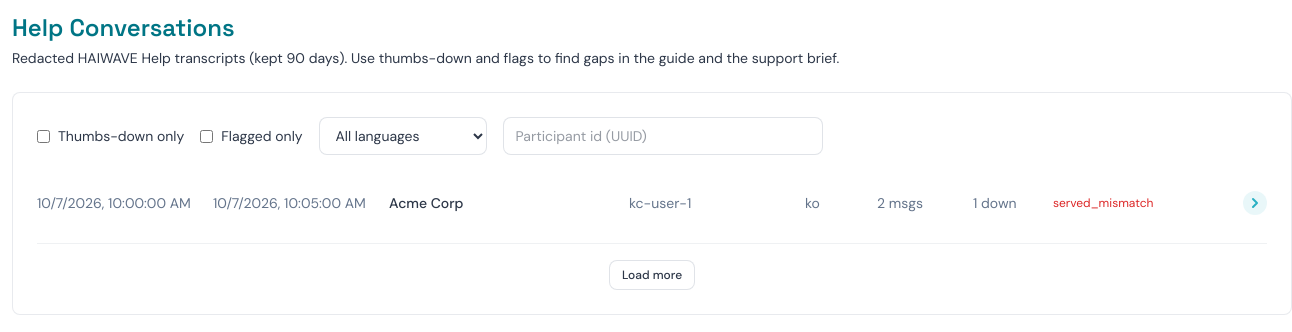
Test: AdminHelpPage › loads more with the cursor and appends
Check: the text "Acme Corp" is shown, box [389,194,464,212]
Click the button "Load more". click: [652, 275]
box: [609,260,695,290]
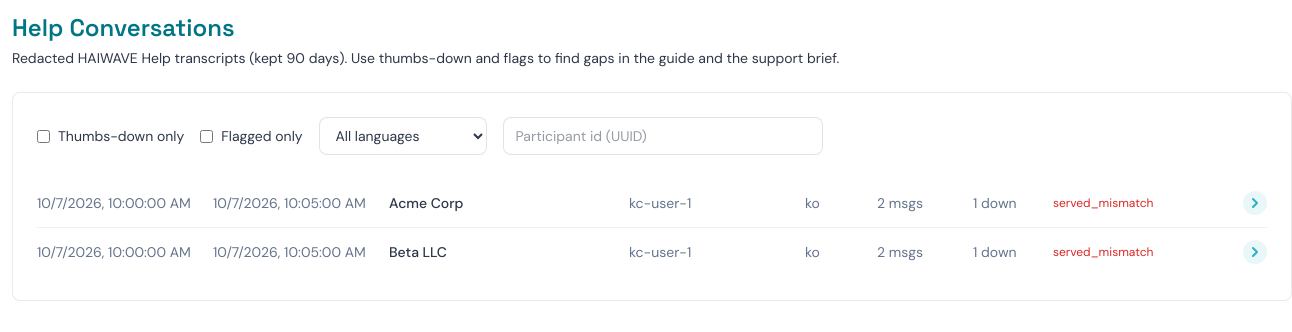
Check: the text "Acme Corp" is shown, box [389,194,464,212]
Check: the text "Beta LLC" is shown, box [389,243,447,261]
Check: the button "Load more" is gone
